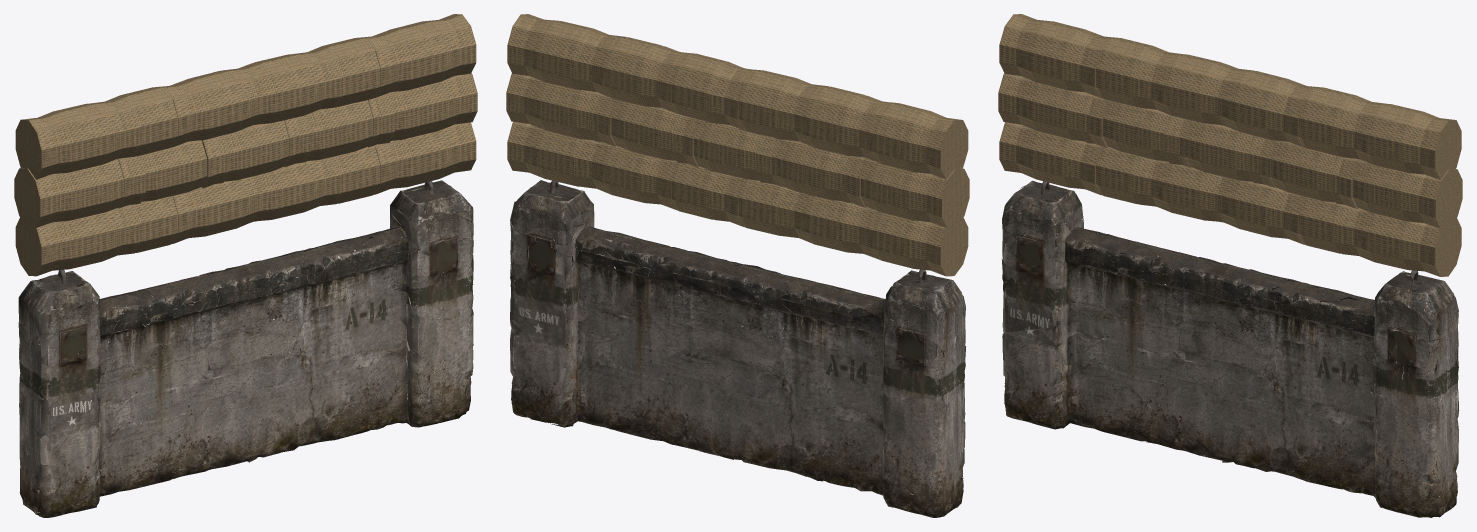
The model's file is base_wall_hq2.glb.
3 views of the same model, side by side, from view 1: azimuth 30°, elevation 25°; view 2: azimuth 150°, elevation 25°; view 3: azimuth 330°, elevation 25° (orthographic).
Parts seen in each view (by area): view 1: Wall_LOD0; view 2: Wall_LOD0; view 3: Wall_LOD0.
Boxes of the visible parts, <box> form: Wall_LOD0: <box>14,14,477,517</box>; Wall_LOD0: <box>506,14,969,517</box>; Wall_LOD0: <box>998,14,1462,517</box>.
Size of what is drawn, in the model's own units: 3.5 by 3 by 0.4.
2 materials, 2 textured.
